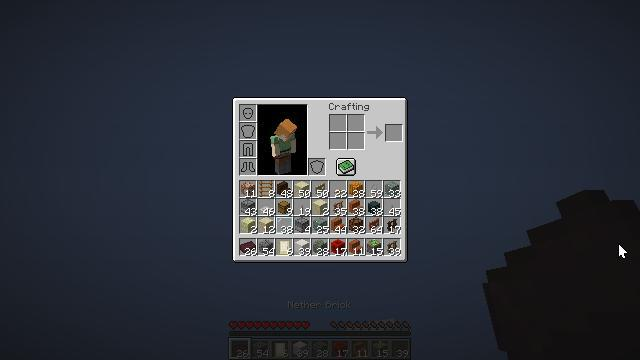cursor: (618, 243, 628, 259)
